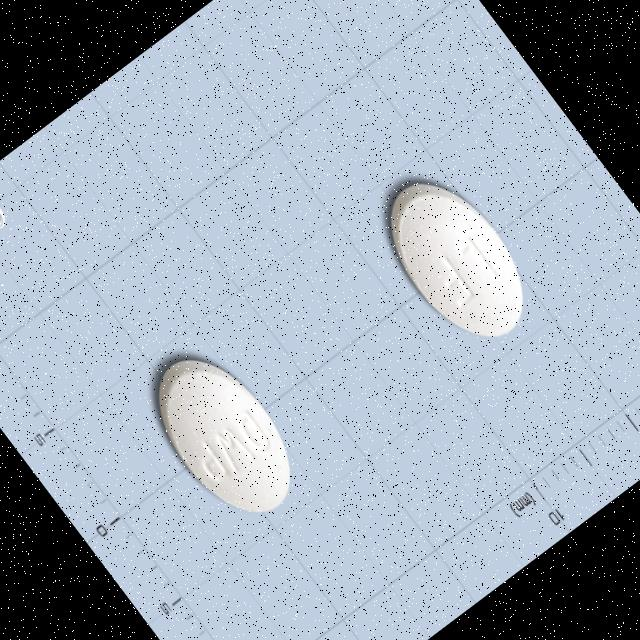Lefloxin: (364, 160, 551, 362), (132, 335, 318, 537)
